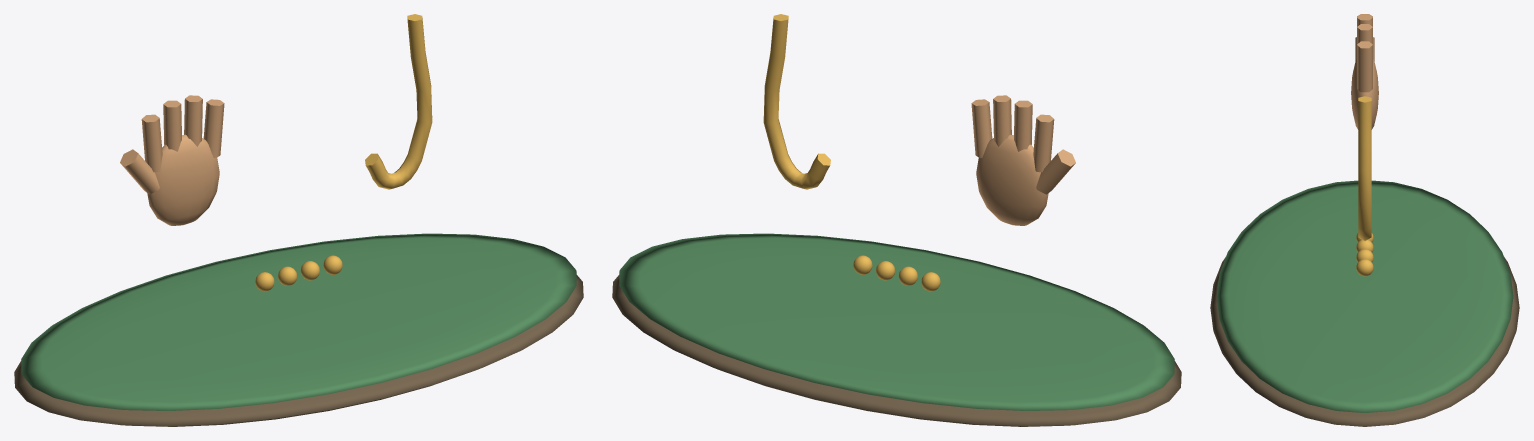
Rendered from complete-first-except-removed-hook.glb.
3 renders of one model, left to right at view 1: azimuth 30°, elevation 25°; view 2: azimuth 150°, elevation 25°; view 3: azimuth 270°, elevation 25°, orthographic. The views are drawn at different scales.
Visible parts, largest first — view 1: complete-first-except-removed-hook_surface_01, complete-first-except-removed-hook_surface_00, complete-first-except-removed-hook_surface_02, complete-first-except-removed-hook_surface_03; view 2: complete-first-except-removed-hook_surface_01, complete-first-except-removed-hook_surface_00, complete-first-except-removed-hook_surface_02, complete-first-except-removed-hook_surface_03; view 3: complete-first-except-removed-hook_surface_01, complete-first-except-removed-hook_surface_00, complete-first-except-removed-hook_surface_03, complete-first-except-removed-hook_surface_02.
Boxes of the visible parts, left/top/right/bottom form: complete-first-except-removed-hook_surface_01: left=21, top=233, right=576, bottom=410; complete-first-except-removed-hook_surface_00: left=14, top=275, right=583, bottom=426; complete-first-except-removed-hook_surface_02: left=120, top=95, right=224, bottom=225; complete-first-except-removed-hook_surface_03: left=255, top=14, right=432, bottom=291; complete-first-except-removed-hook_surface_01: left=619, top=233, right=1174, bottom=410; complete-first-except-removed-hook_surface_00: left=612, top=275, right=1181, bottom=426; complete-first-except-removed-hook_surface_02: left=971, top=95, right=1075, bottom=225; complete-first-except-removed-hook_surface_03: left=763, top=14, right=940, bottom=291; complete-first-except-removed-hook_surface_01: left=1216, top=180, right=1513, bottom=412; complete-first-except-removed-hook_surface_00: left=1210, top=257, right=1519, bottom=426; complete-first-except-removed-hook_surface_03: left=1356, top=96, right=1373, bottom=276; complete-first-except-removed-hook_surface_02: left=1351, top=14, right=1378, bottom=129.
Bounding box in the file's own units: 4.56 × 2.44 × 2.5.
